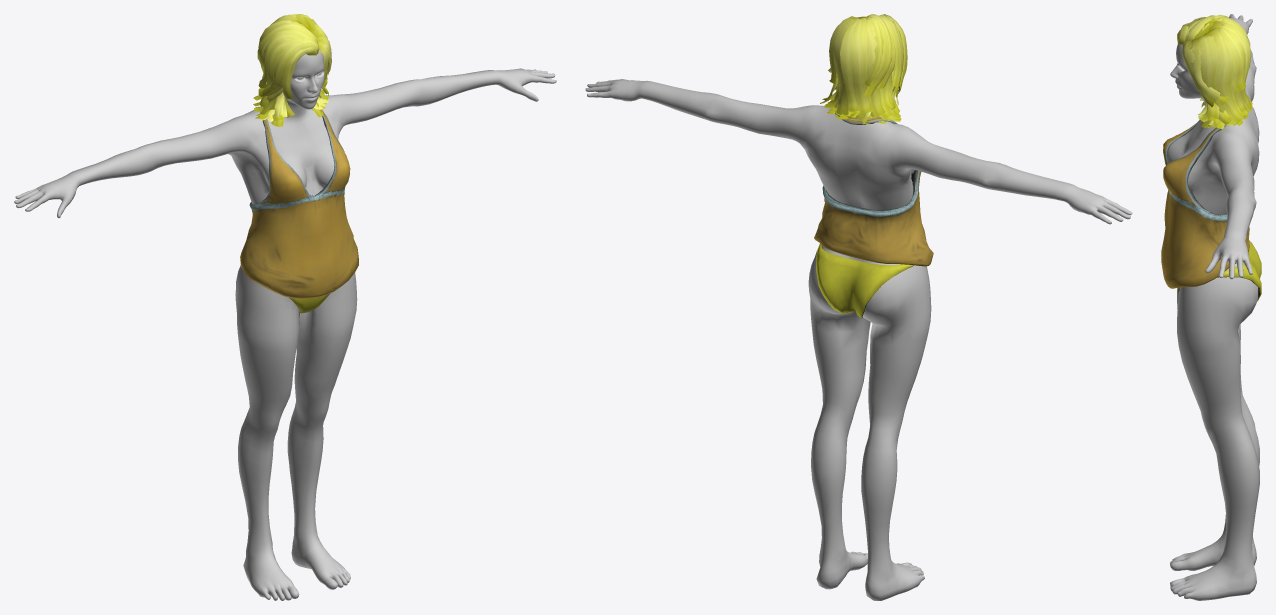
Rendered from third_clothes_hair.obj.
3 views of the same model, side by side, from view 1: azimuth 30°, elevation 25°; view 2: azimuth 150°, elevation 25°; view 3: azimuth 270°, elevation 25° (orthographic).
Parts seen in each view (by area): view 1: Body, Tops, Hair; view 2: Body, Hair, Tops, Bottoms; view 3: Body, Tops, Hair, Bottoms.
Part boxes in pixels (x1,y1,x2,y2): Body: (14, 50, 556, 600); Tops: (240, 106, 358, 299); Hair: (253, 14, 331, 126); Body: (585, 79, 1132, 600); Hair: (820, 14, 907, 124); Tops: (814, 113, 933, 266); Bottoms: (816, 243, 914, 318); Body: (1168, 14, 1259, 600); Tops: (1161, 107, 1249, 288); Hair: (1177, 14, 1252, 129); Bottoms: (1177, 241, 1261, 300).
Bounding box in the file's own units: 17.95 × 17.91 × 2.89.
